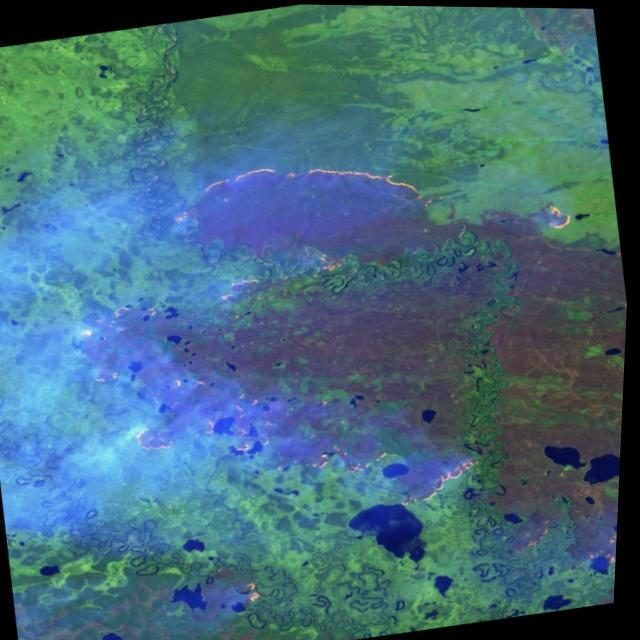fire: (33, 102, 636, 640)
